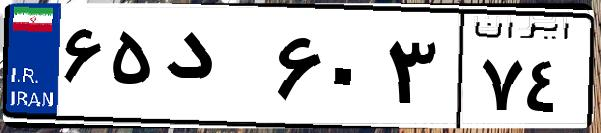0: (330, 28, 385, 110)
3: (385, 28, 445, 110)
4: (525, 38, 570, 115)
5: (110, 28, 158, 98)
6: (270, 28, 330, 110), (57, 26, 110, 100)
7: (475, 38, 525, 113)
د: (158, 20, 270, 120)
